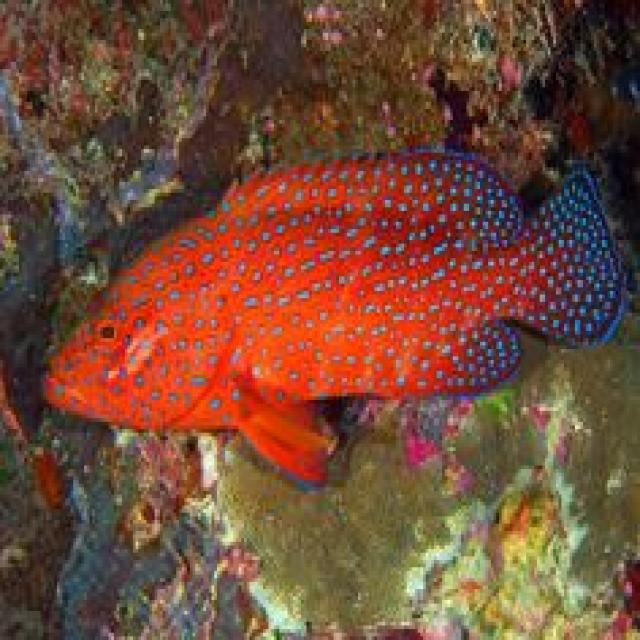Plectropomus-leopardus: (32, 136, 638, 488)
